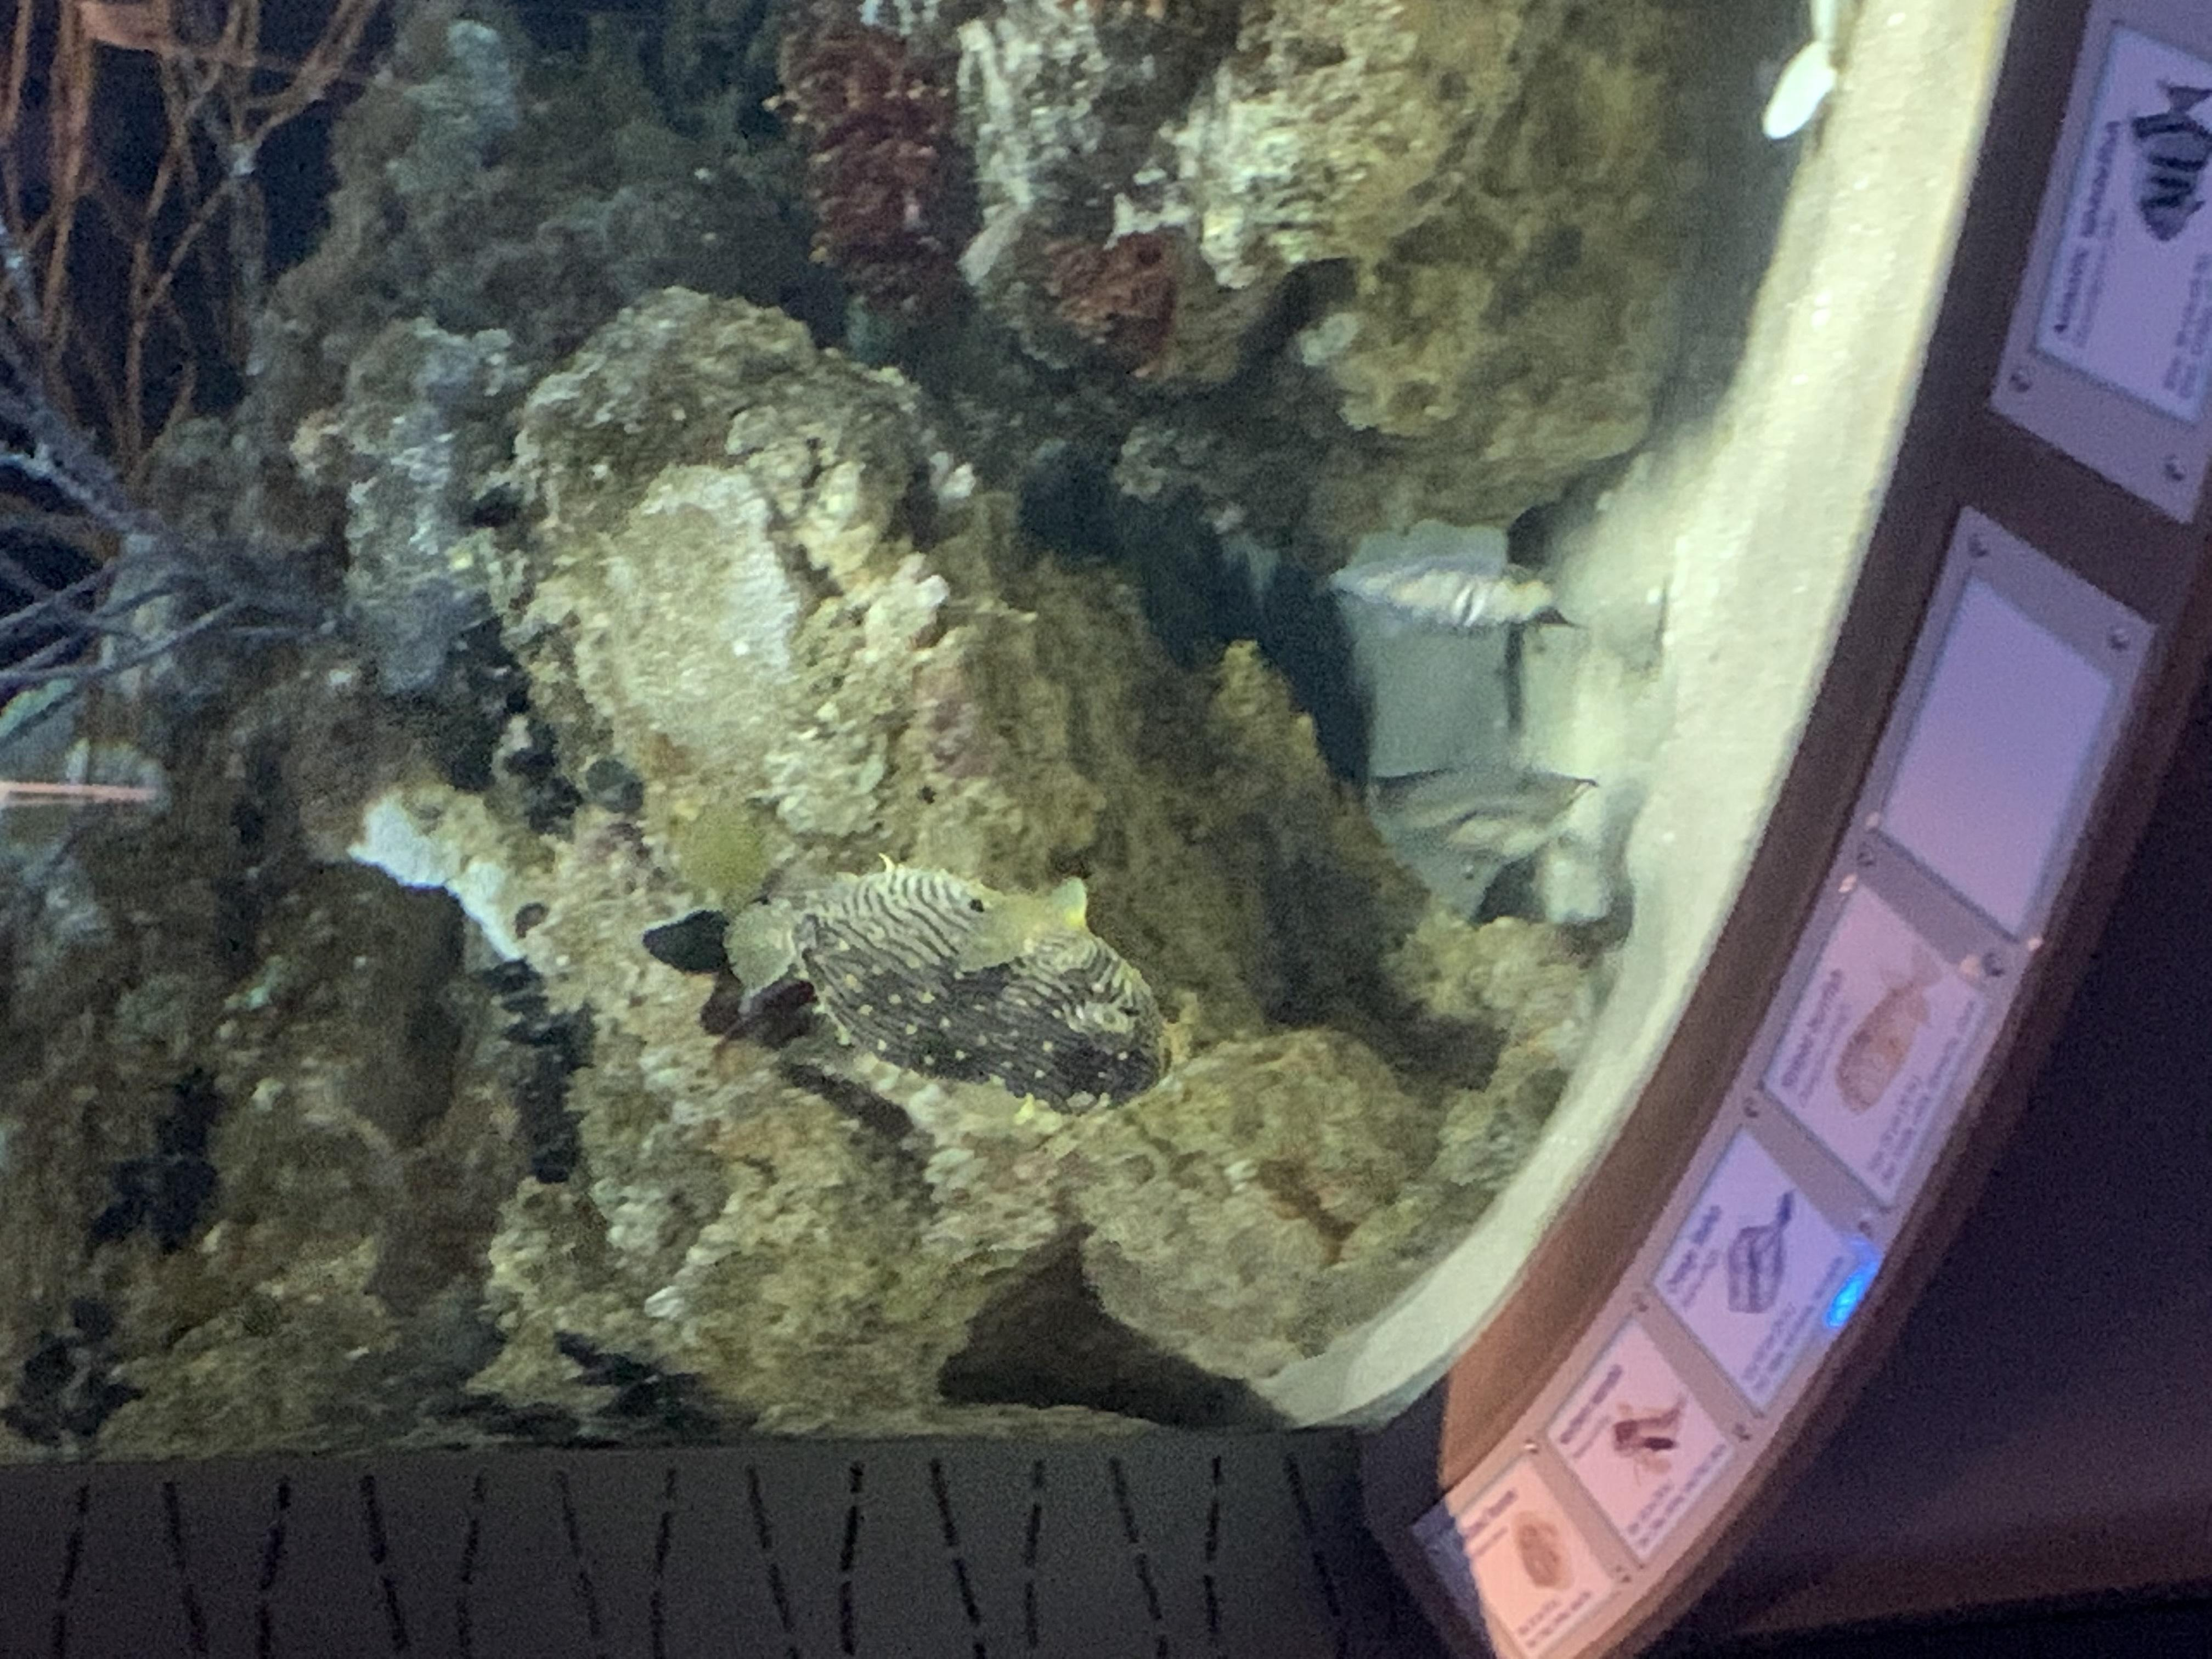fish: (725, 857, 1177, 1117), (1364, 758, 1604, 918), (1318, 547, 1592, 638)
